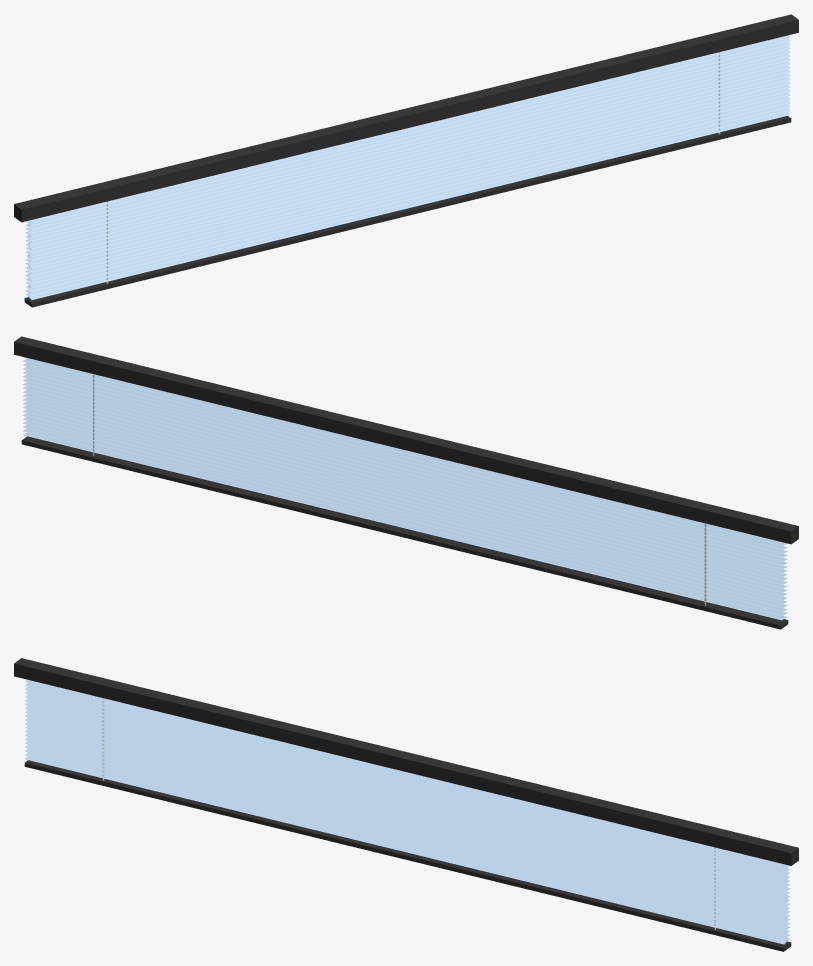
3 views of the same model, one above another, from view 1: azimuth 30°, elevation 25°; view 2: azimuth 150°, elevation 25°; view 3: azimuth 330°, elevation 25° (orthographic).
Visible parts, largest first — view 1: Screen_BLN, Screen_BLACK_PLASTIC; view 2: Screen_BLN, Screen_BLACK_PLASTIC; view 3: Screen_BLN, Screen_BLACK_PLASTIC.
Boxes of the visible parts, bbox=[...] form: Screen_BLN: bbox=[25, 35, 790, 299]; Screen_BLACK_PLASTIC: bbox=[14, 14, 798, 307]; Screen_BLN: bbox=[23, 357, 787, 620]; Screen_BLACK_PLASTIC: bbox=[14, 336, 798, 629]; Screen_BLN: bbox=[25, 679, 789, 944]; Screen_BLACK_PLASTIC: bbox=[14, 658, 798, 951].
Size of the model in its own units: 22.89 by 2.83 by 0.3834.
